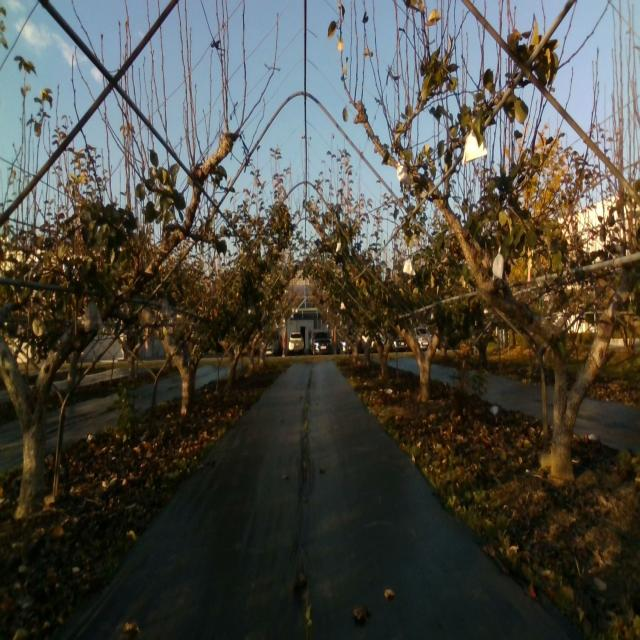pearbags: (462, 129, 488, 166), (84, 302, 102, 330), (492, 247, 504, 281), (397, 162, 413, 185), (403, 258, 416, 276), (162, 302, 172, 321)
